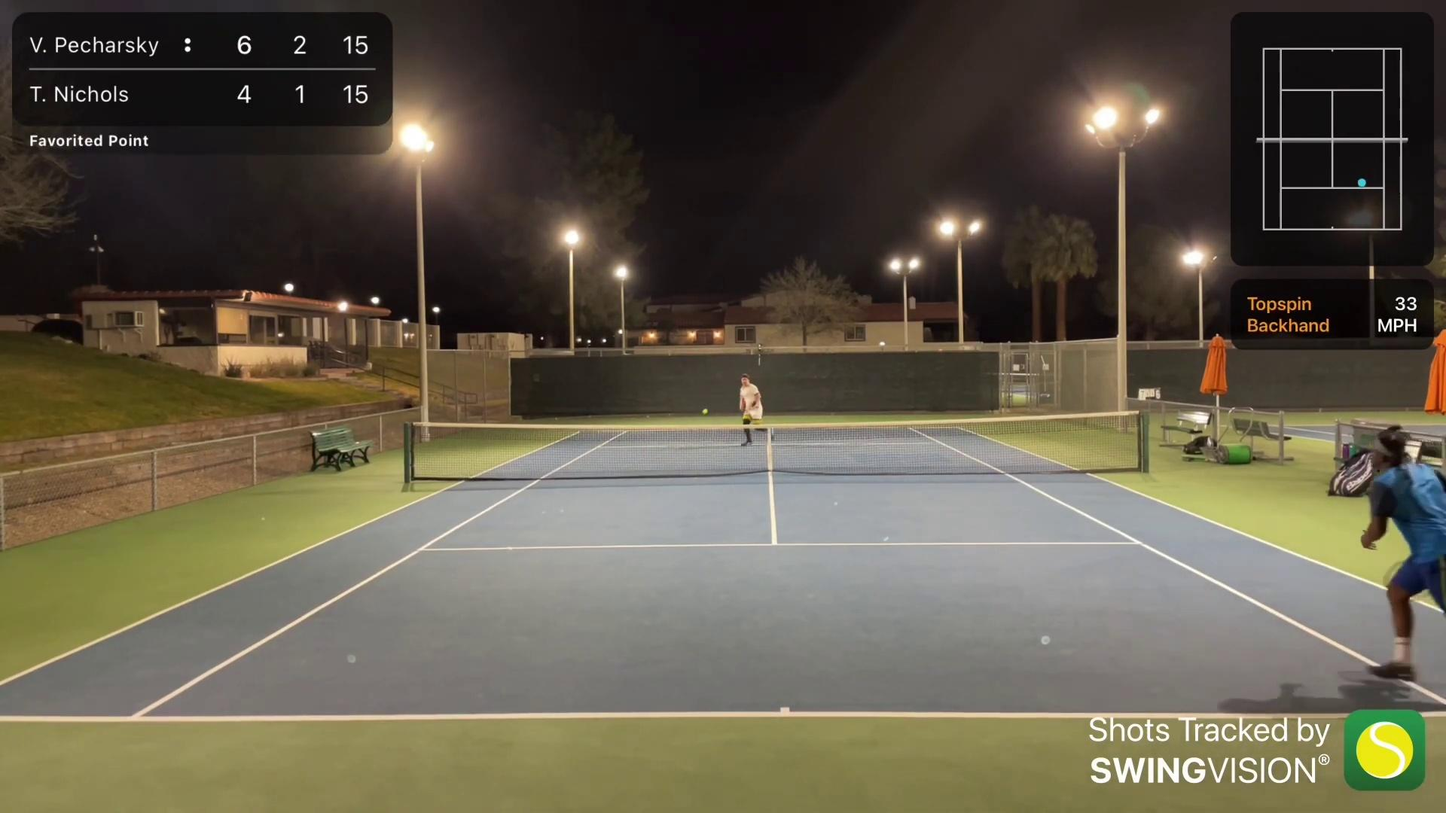ball: (697, 404, 712, 419)
